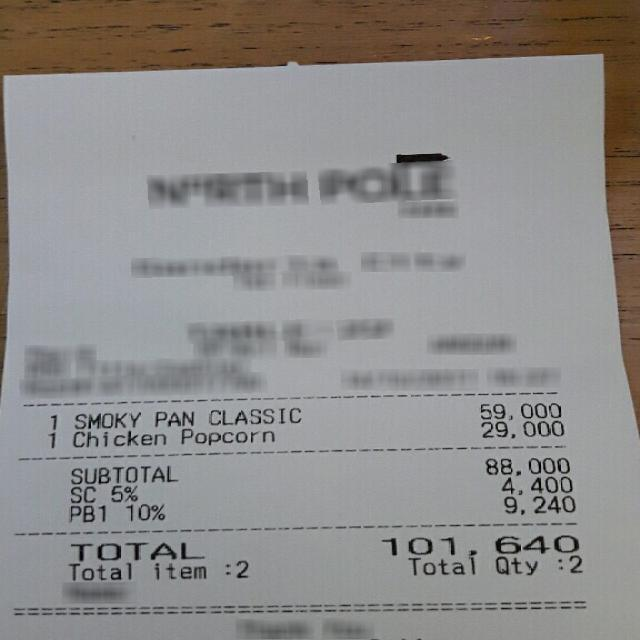kertas: (4, 54, 638, 640)
